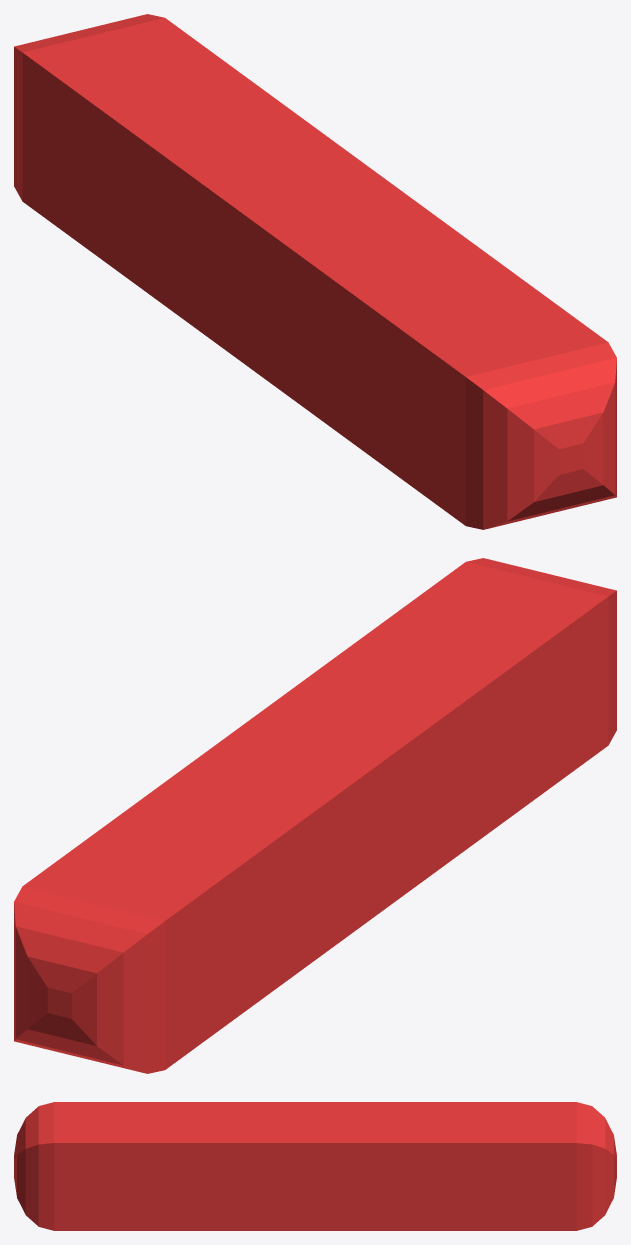
File: Menos.fbx
The picture shows the model from 3 angles, top to bottom: view 1: azimuth 30°, elevation 25°; view 2: azimuth 150°, elevation 25°; view 3: azimuth 270°, elevation 25°; orthographic projection. The views are drawn at different scales.
Parts seen in each view (by area): view 1: Menos; view 2: Menos; view 3: Menos.
Part boxes in pixels (x1,y1,x2,y2): Menos: [14, 14, 616, 529]; Menos: [14, 558, 616, 1073]; Menos: [14, 1102, 616, 1230].
Size of the model in its own units: 96.52 by 96.52 by 600.
